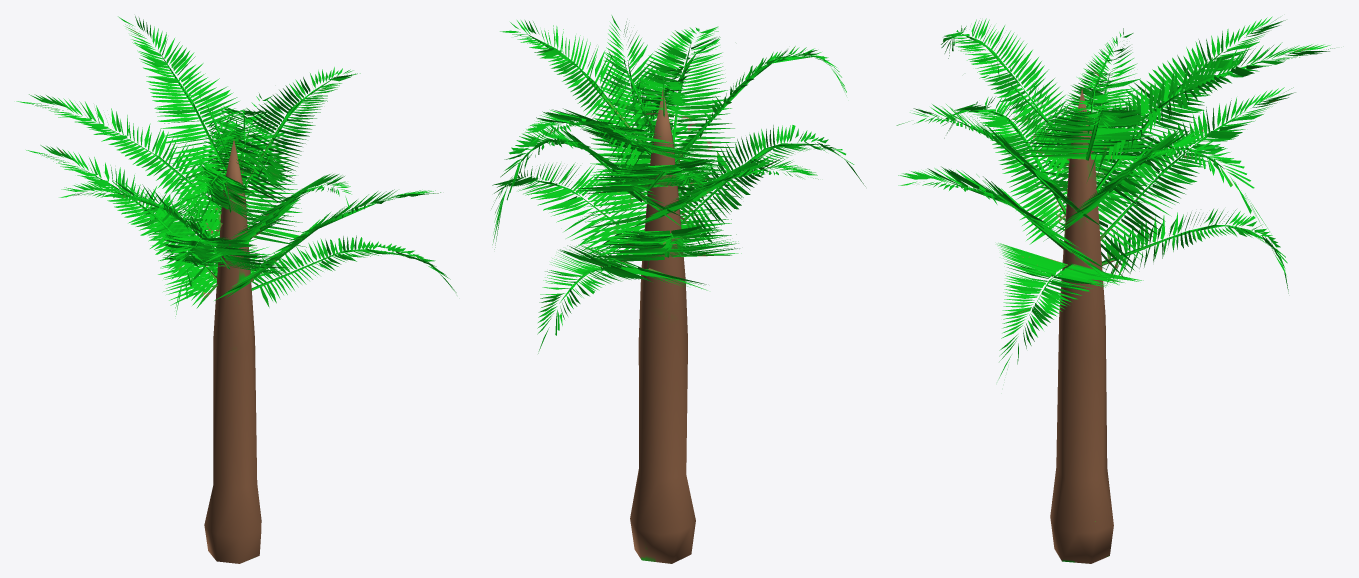
File: Palmera.fbx
3 renders of one model, left to right at view 1: azimuth 30°, elevation 25°; view 2: azimuth 150°, elevation 25°; view 3: azimuth 270°, elevation 25°, orthographic. The views are drawn at different scales.
Visible parts, largest first — view 1: palmera1; view 2: palmera1; view 3: palmera1.
Boxes of the visible parts, x1=… form: palmera1: x1=16, y1=16, x2=456, y2=563; palmera1: x1=491, y1=15, x2=865, y2=563; palmera1: x1=896, y1=16, x2=1334, y2=563.
Bounding box in the file's own units: 12488 × 15480 × 12314.
